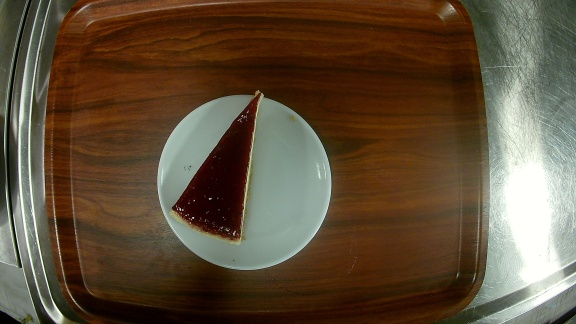frambuazlipasta: (156, 93, 334, 270)
